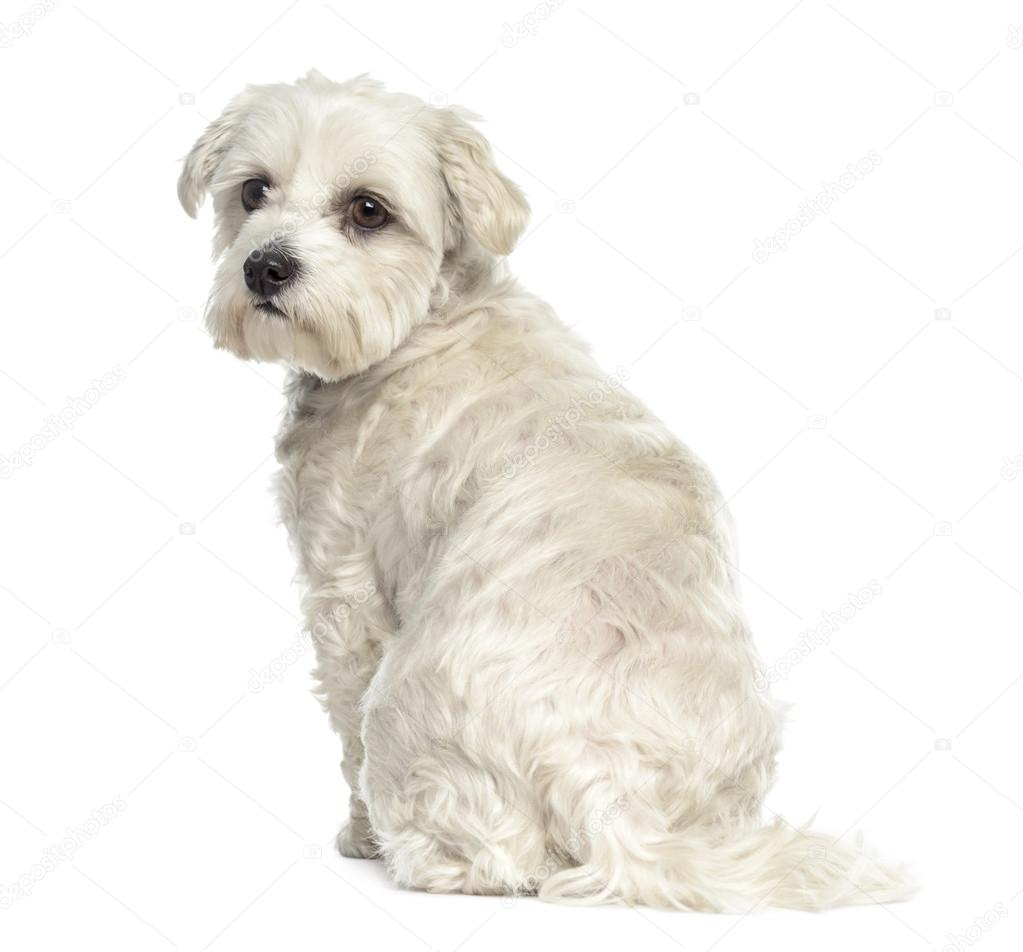dog: (171, 76, 910, 916)
